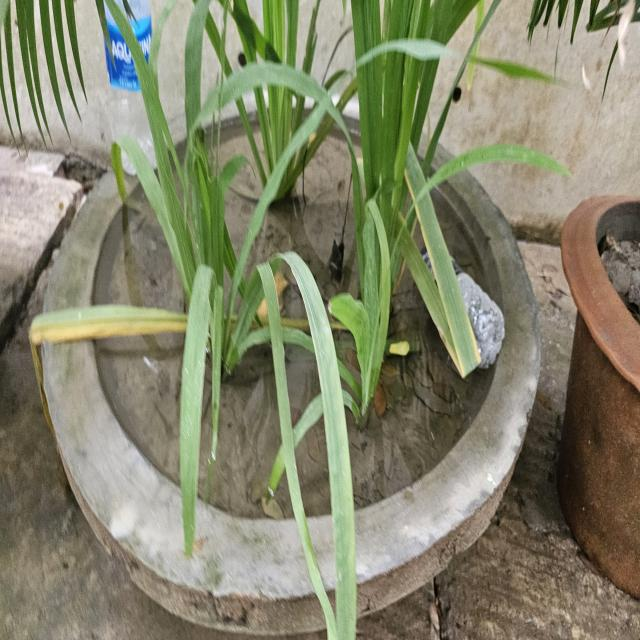artificial_container: (37, 87, 543, 640), (558, 190, 640, 604), (412, 226, 507, 369), (95, 0, 164, 176)
